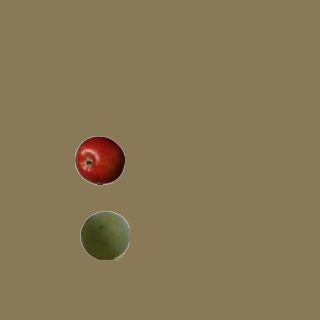Apple Braeburn: (74, 135, 124, 185)
Grape White 4: (79, 210, 129, 260)
